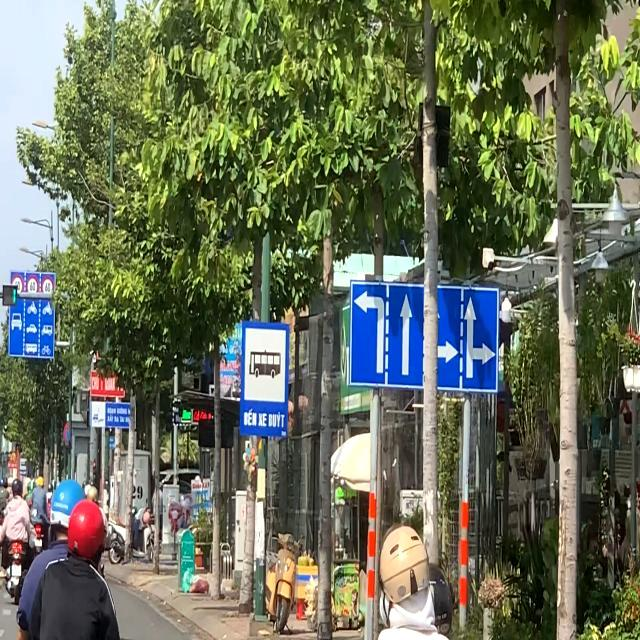Ben xe buyt: (238, 318, 290, 441)
Toc do toi da cho phep: (11, 274, 24, 298), (26, 275, 39, 298), (41, 276, 54, 298)
